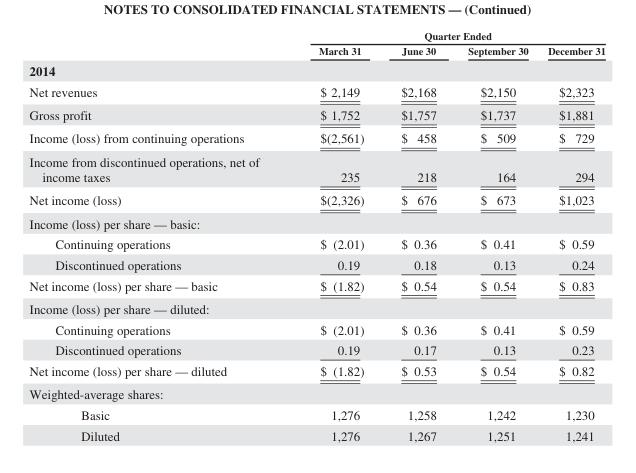table: (28, 29, 604, 442)
table column: (28, 29, 288, 442), (288, 29, 381, 442), (451, 29, 537, 442), (381, 29, 451, 442), (537, 29, 604, 442)
table column header: (28, 29, 604, 59)
table projected row header: (28, 59, 604, 81), (28, 211, 604, 233), (28, 296, 604, 318), (28, 382, 604, 404)
table row: (28, 149, 604, 188), (28, 103, 604, 126), (28, 126, 604, 149), (28, 188, 604, 211), (28, 59, 604, 81), (28, 81, 604, 103), (28, 211, 604, 233), (28, 274, 604, 296), (28, 296, 604, 318), (28, 360, 604, 382), (28, 382, 604, 404), (28, 233, 604, 254), (28, 318, 604, 339), (28, 339, 604, 360), (28, 254, 604, 274), (28, 404, 604, 424), (28, 424, 604, 442), (28, 43, 604, 59), (28, 29, 604, 43)
table spanning cell: (288, 29, 604, 43)
